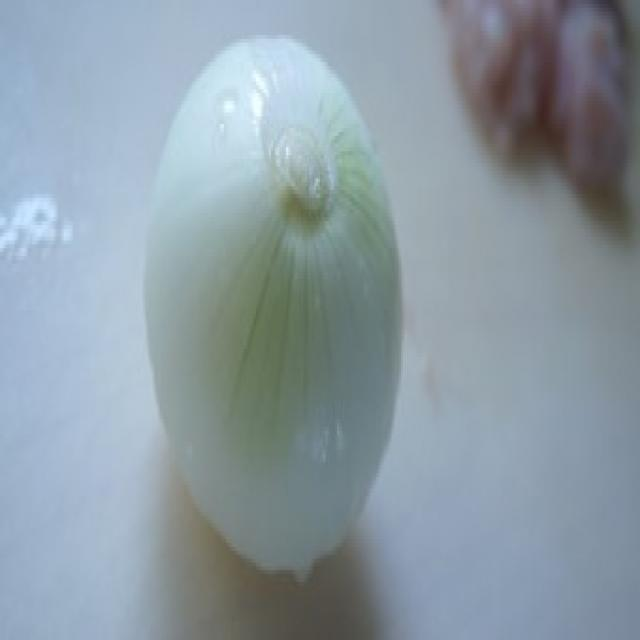onion: (135, 29, 410, 591)
